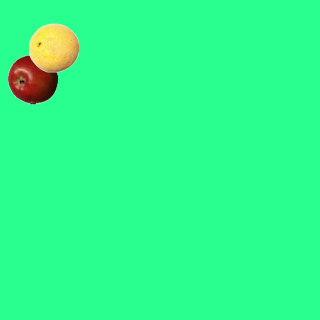Apple Braeburn: (7, 54, 57, 104)
Cantaloupe 1: (28, 22, 78, 72)
